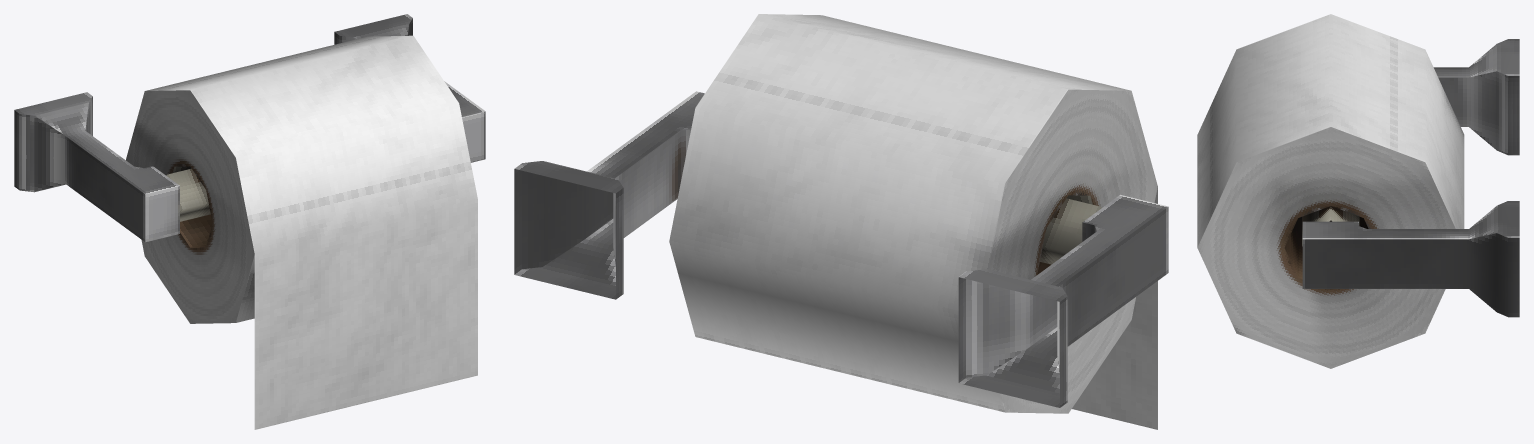
File: retro_lowpoly_toilet_paper.glb
The picture shows the model from 3 angles, left to right: view 1: azimuth 30°, elevation 25°; view 2: azimuth 150°, elevation 25°; view 3: azimuth 270°, elevation 25°; orthographic projection. The views are drawn at different scales.
Parts seen in each view (by area): view 1: ToiletPaperLow_0; view 2: ToiletPaperLow_0; view 3: ToiletPaperLow_0.
Boxes of the visible parts, box(x1,y1,x2,y2) form: ToiletPaperLow_0: box(14, 14, 485, 429); ToiletPaperLow_0: box(514, 14, 1168, 429); ToiletPaperLow_0: box(1197, 14, 1519, 368).
Size of the model in its own units: 0.195 by 0.1386 by 0.1336.
Materials: 1 (1 with a texture image).
